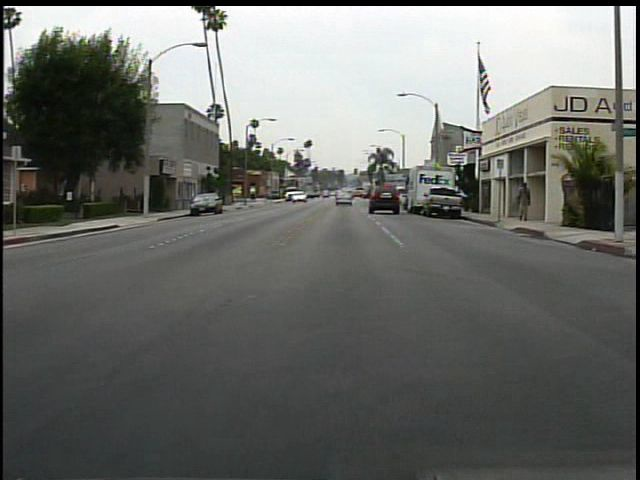person: (514, 182, 535, 224)
